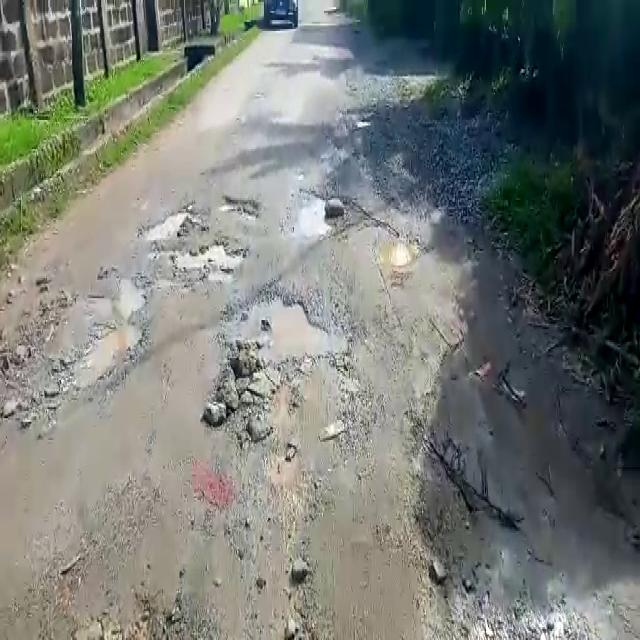Pothole: (42, 278, 147, 392), (221, 286, 355, 367), (178, 239, 250, 273), (290, 189, 335, 240), (139, 207, 193, 247), (372, 230, 419, 270)
